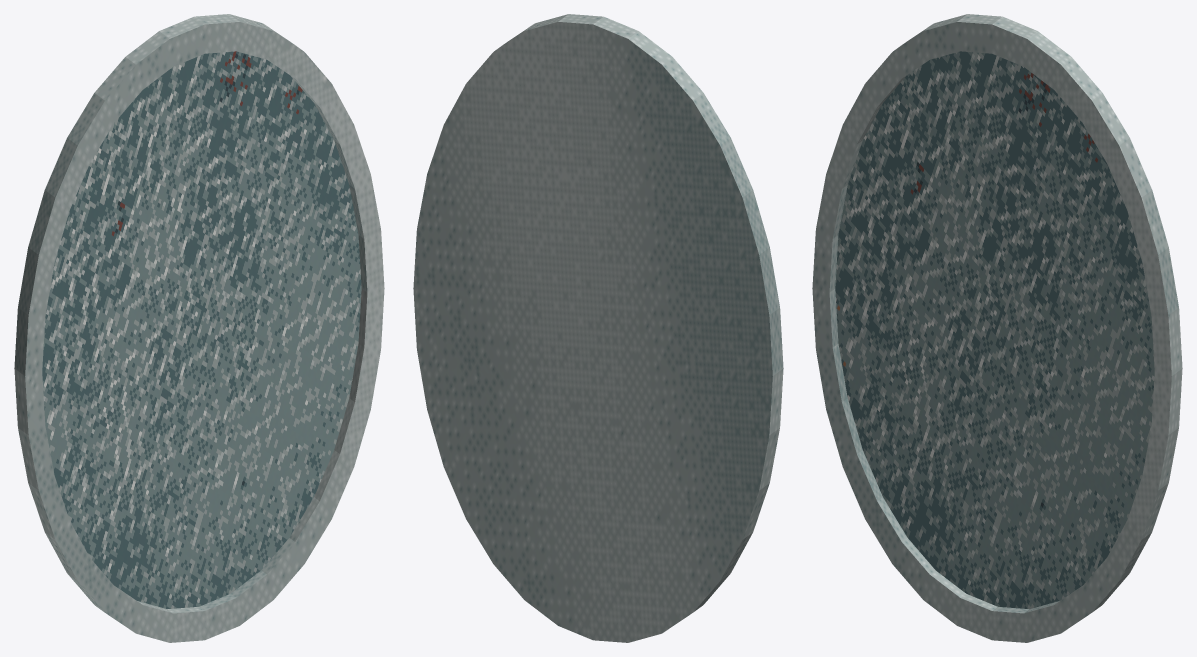
The model's file is broken_mirror.glb.
The picture shows the model from 3 angles, left to right: view 1: azimuth 30°, elevation 25°; view 2: azimuth 150°, elevation 25°; view 3: azimuth 330°, elevation 25°; orthographic projection.
Parts seen in each view (by area): view 1: Circle; view 2: Circle; view 3: Circle.
Boxes of the visible parts, bbox=[...] form: Circle: bbox=[14, 14, 384, 642]; Circle: bbox=[413, 14, 783, 642]; Circle: bbox=[812, 14, 1182, 642].
Size of the model in its own units: 2 by 3.27 by 0.1031.
Materials: 2 (2 with a texture image).
